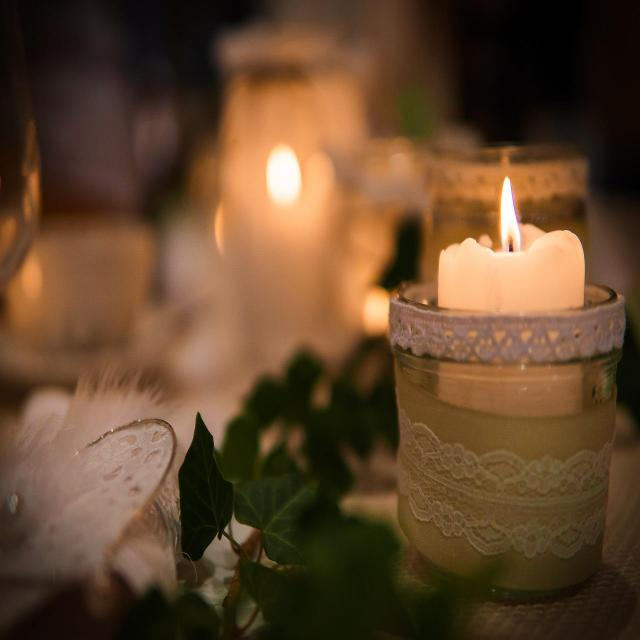Fire_Save: (388, 175, 626, 599), (436, 174, 586, 312)
